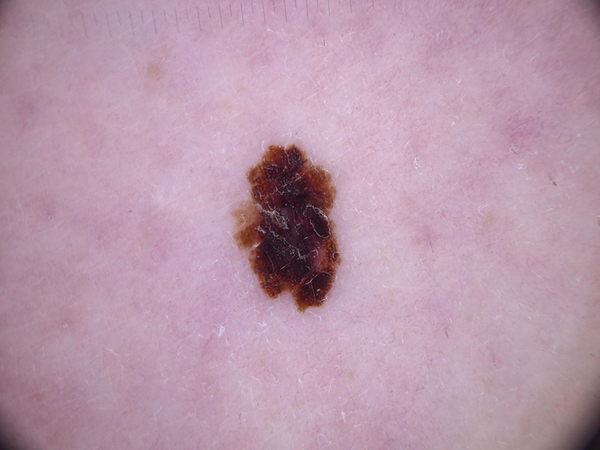Detected Lesion: (231, 135, 351, 314)
